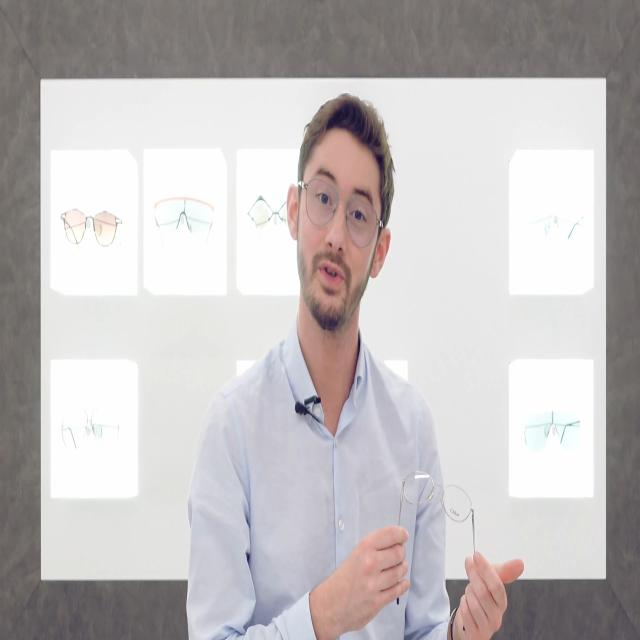dress: (187, 314, 451, 640)
glasses: (304, 175, 378, 249), (401, 465, 472, 525), (154, 196, 214, 240), (62, 207, 118, 249)
